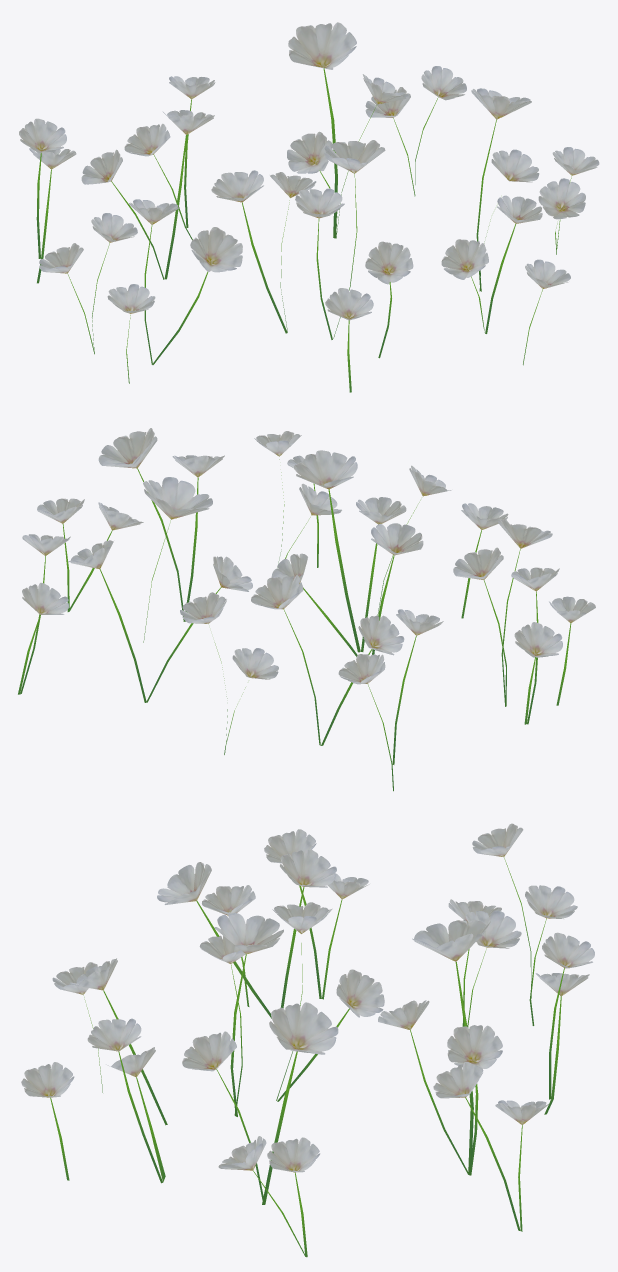
File: SM_FlowerGroup_05.fbx
The picture shows the model from 3 angles, top to bottom: view 1: azimuth 30°, elevation 25°; view 2: azimuth 150°, elevation 25°; view 3: azimuth 270°, elevation 25°; orthographic projection. The views are drawn at different scales.
Visible parts, largest first — view 1: SM_FlowerGroup_05; view 2: SM_FlowerGroup_05; view 3: SM_FlowerGroup_05.
Boxes of the visible parts, left/top/right/bottom form: SM_FlowerGroup_05: left=19, top=22, right=599, bottom=392; SM_FlowerGroup_05: left=18, top=428, right=595, bottom=791; SM_FlowerGroup_05: left=21, top=823, right=594, bottom=1257.
Bounding box in the file's own units: 251 × 96 × 208.
